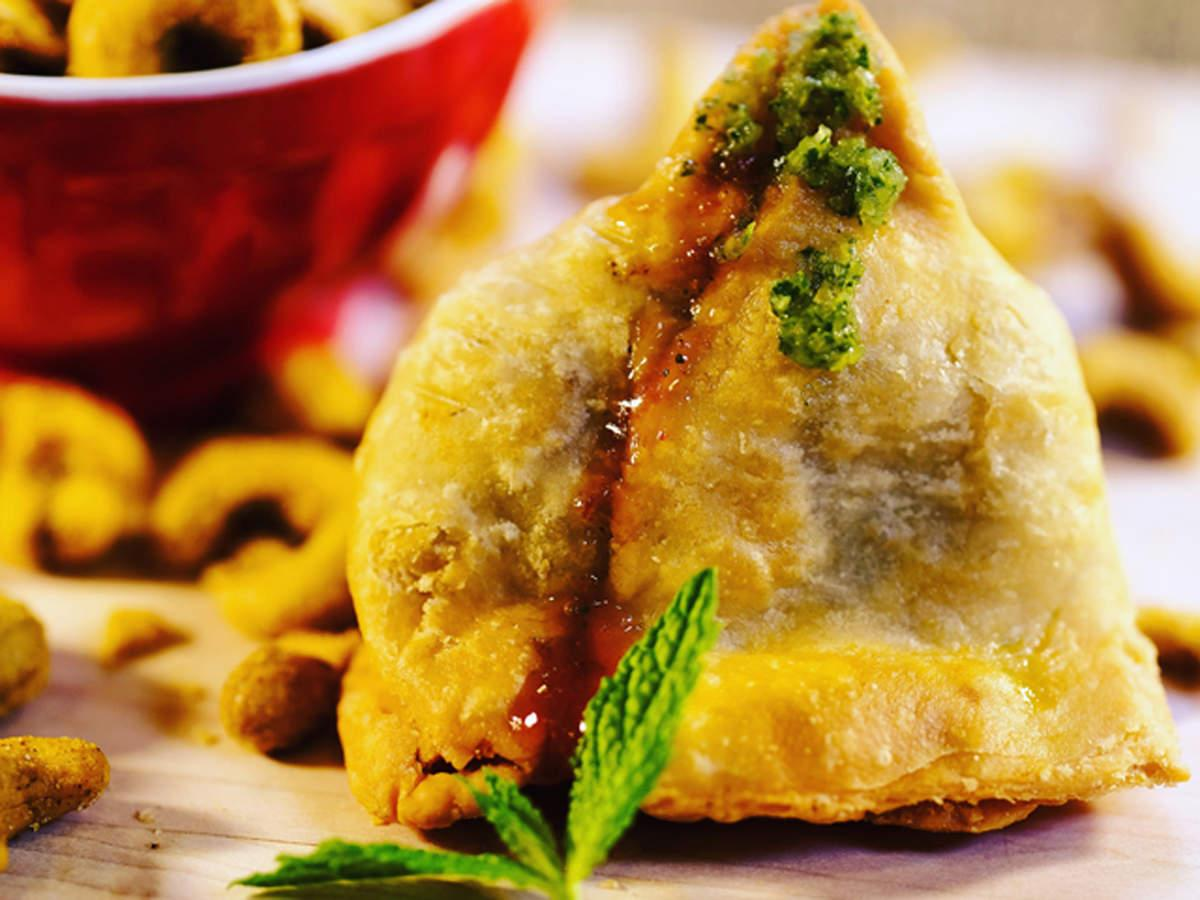samosa: (347, 5, 1186, 827)
